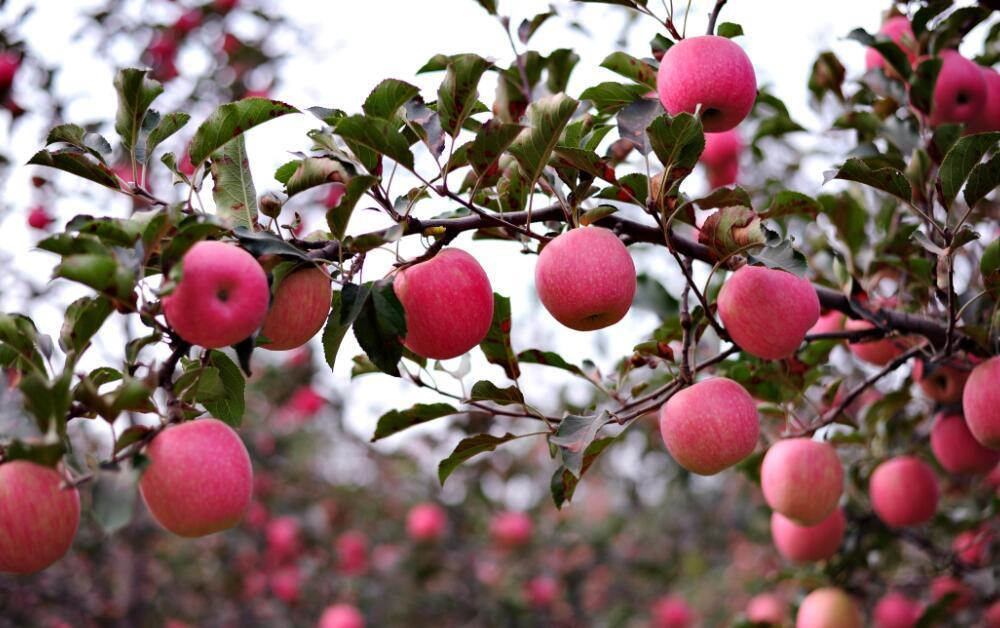apple: (138, 419, 253, 538), (390, 245, 495, 362), (163, 235, 270, 349), (535, 225, 639, 331), (660, 376, 760, 475), (713, 262, 816, 358), (1, 456, 82, 575), (657, 32, 755, 129), (761, 434, 846, 527), (254, 251, 332, 351), (869, 456, 941, 527), (924, 50, 989, 124), (959, 355, 1000, 453)
